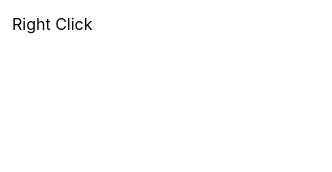
Context Menu Component › should open on right click
Right-click the text "Right Click" at coordinates (52, 24), box [12, 14, 92, 34]
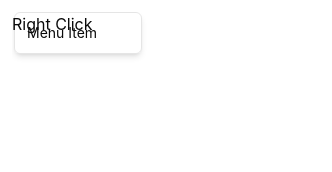
Check: the menu item "Menu Item" is shown, box [27, 24, 97, 41]
